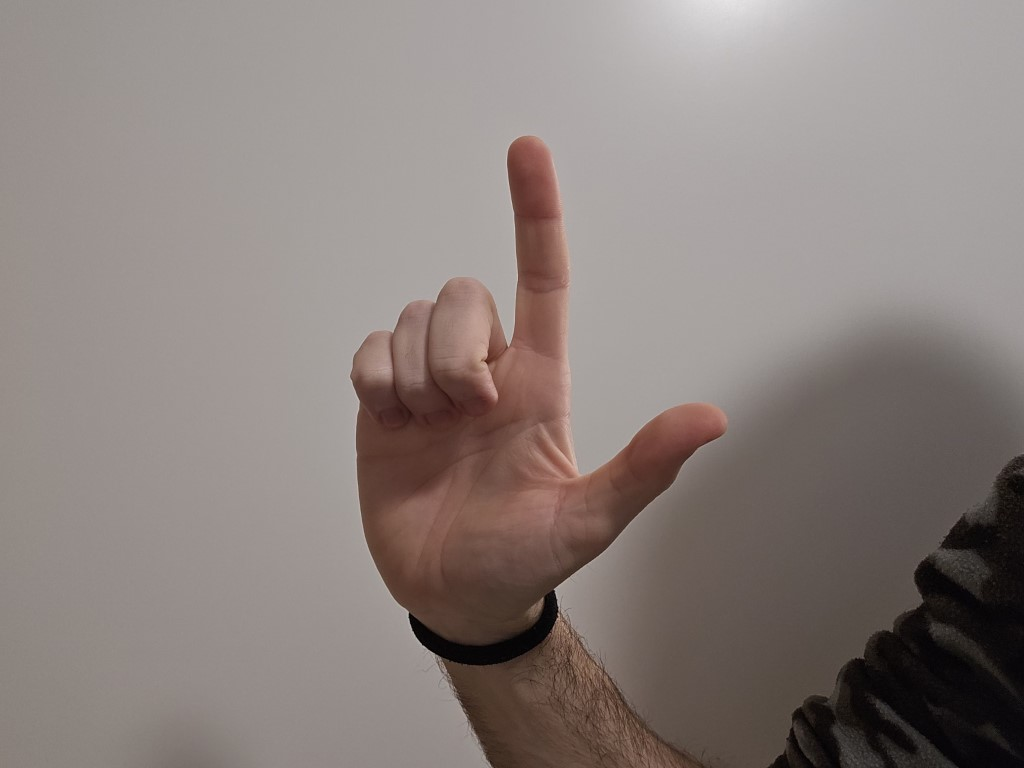l: (290, 121, 746, 636)
